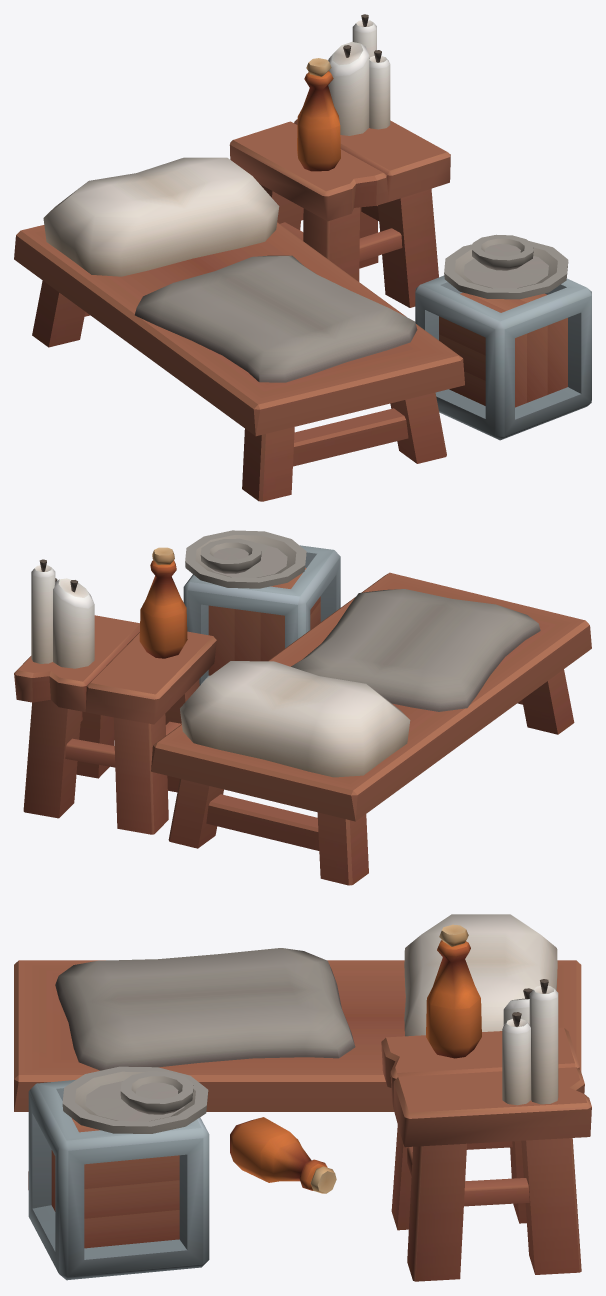
File: bed_decorated.gltf.glb
3 renders of one model, top to bottom at view 1: azimuth 30°, elevation 25°; view 2: azimuth 150°, elevation 25°; view 3: azimuth 270°, elevation 25°, orthographic. The views are drawn at different scales.
Visible parts, largest first — view 1: bed_decorated; view 2: bed_decorated; view 3: bed_decorated.
Part boxes in pixels (x1,y1,x2,y2): bed_decorated: [14, 14, 591, 501]; bed_decorated: [14, 530, 591, 885]; bed_decorated: [14, 914, 591, 1281].
Size of the model in its own units: 2.61 by 1.7 by 3.06.
1 material, 1 textured.
